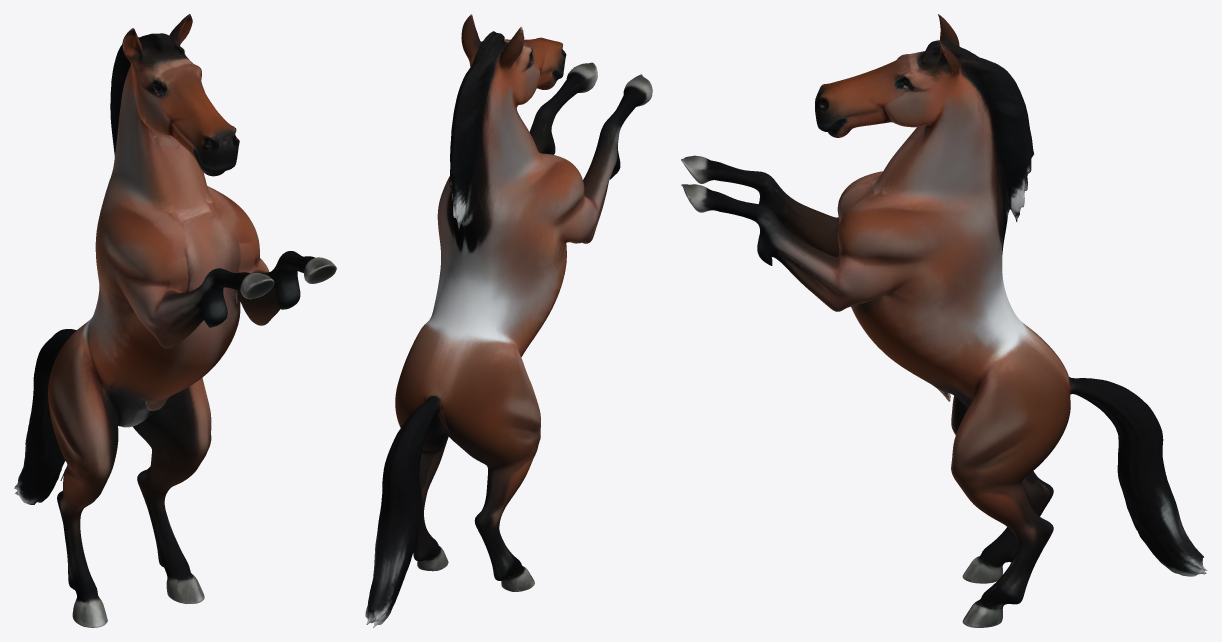
File: horse_rearing.glb
The picture shows the model from 3 angles, left to right: view 1: azimuth 30°, elevation 25°; view 2: azimuth 150°, elevation 25°; view 3: azimuth 270°, elevation 25°; orthographic projection. The views are drawn at different scales.
Visible parts, largest first — view 1: model; view 2: model; view 3: model.
Boxes of the visible parts, x1=… form: model: x1=14, y1=14, x2=336, y2=627; model: x1=365, y1=14, x2=652, y2=627; model: x1=681, y1=14, x2=1207, y2=627.
Size of the model in its own units: 0.4401 by 1.9 by 1.58.
1 material, 1 textured.
